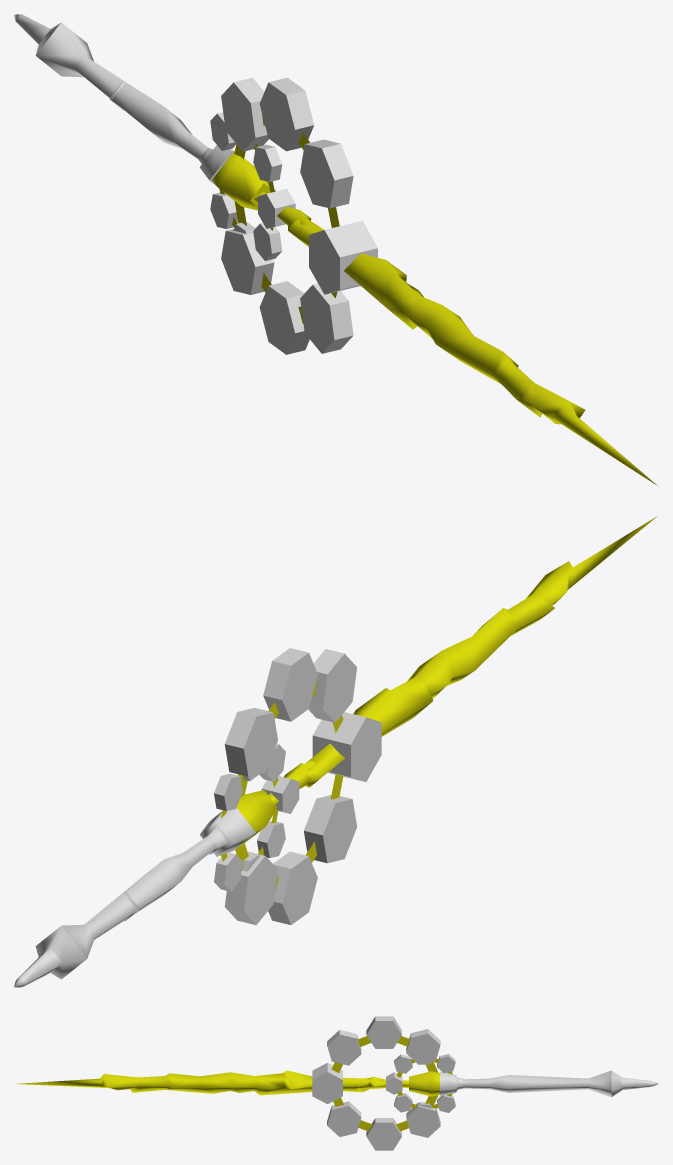
3 views of the same model, one above another, from view 1: azimuth 30°, elevation 25°; view 2: azimuth 150°, elevation 25°; view 3: azimuth 270°, elevation 25° (orthographic). The views are drawn at different scales.
Visible parts, largest first — view 1: mLanceA, mLance; view 2: mLanceA, mLance; view 3: mLanceA, mLance.
Boxes of the visible parts, <box> form: mLanceA: <box>14,14,658,486</box>; mLance: <box>109,81,311,260</box>; mLanceA: <box>14,515,658,987</box>; mLance: <box>124,743,333,920</box>; mLanceA: <box>16,1016,658,1150</box>; mLance: <box>343,1054,463,1112</box>.
Size of the model in its own units: 0.0995 by 0.4777 by 2.15.
